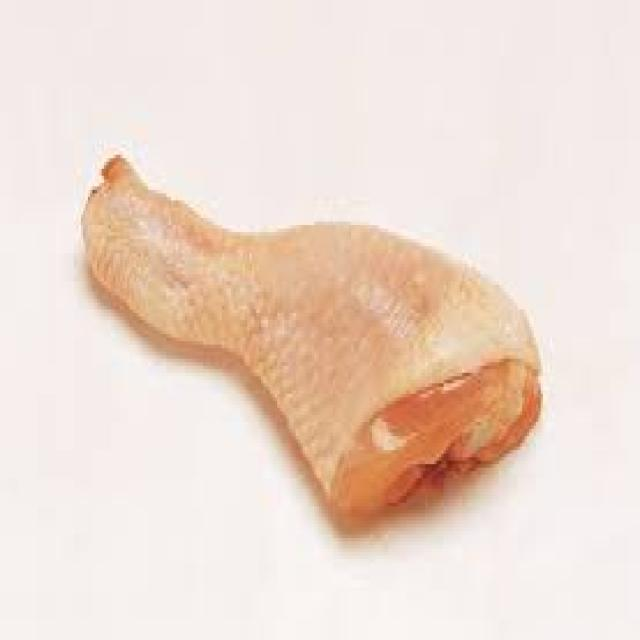chicken: (75, 138, 551, 557)
